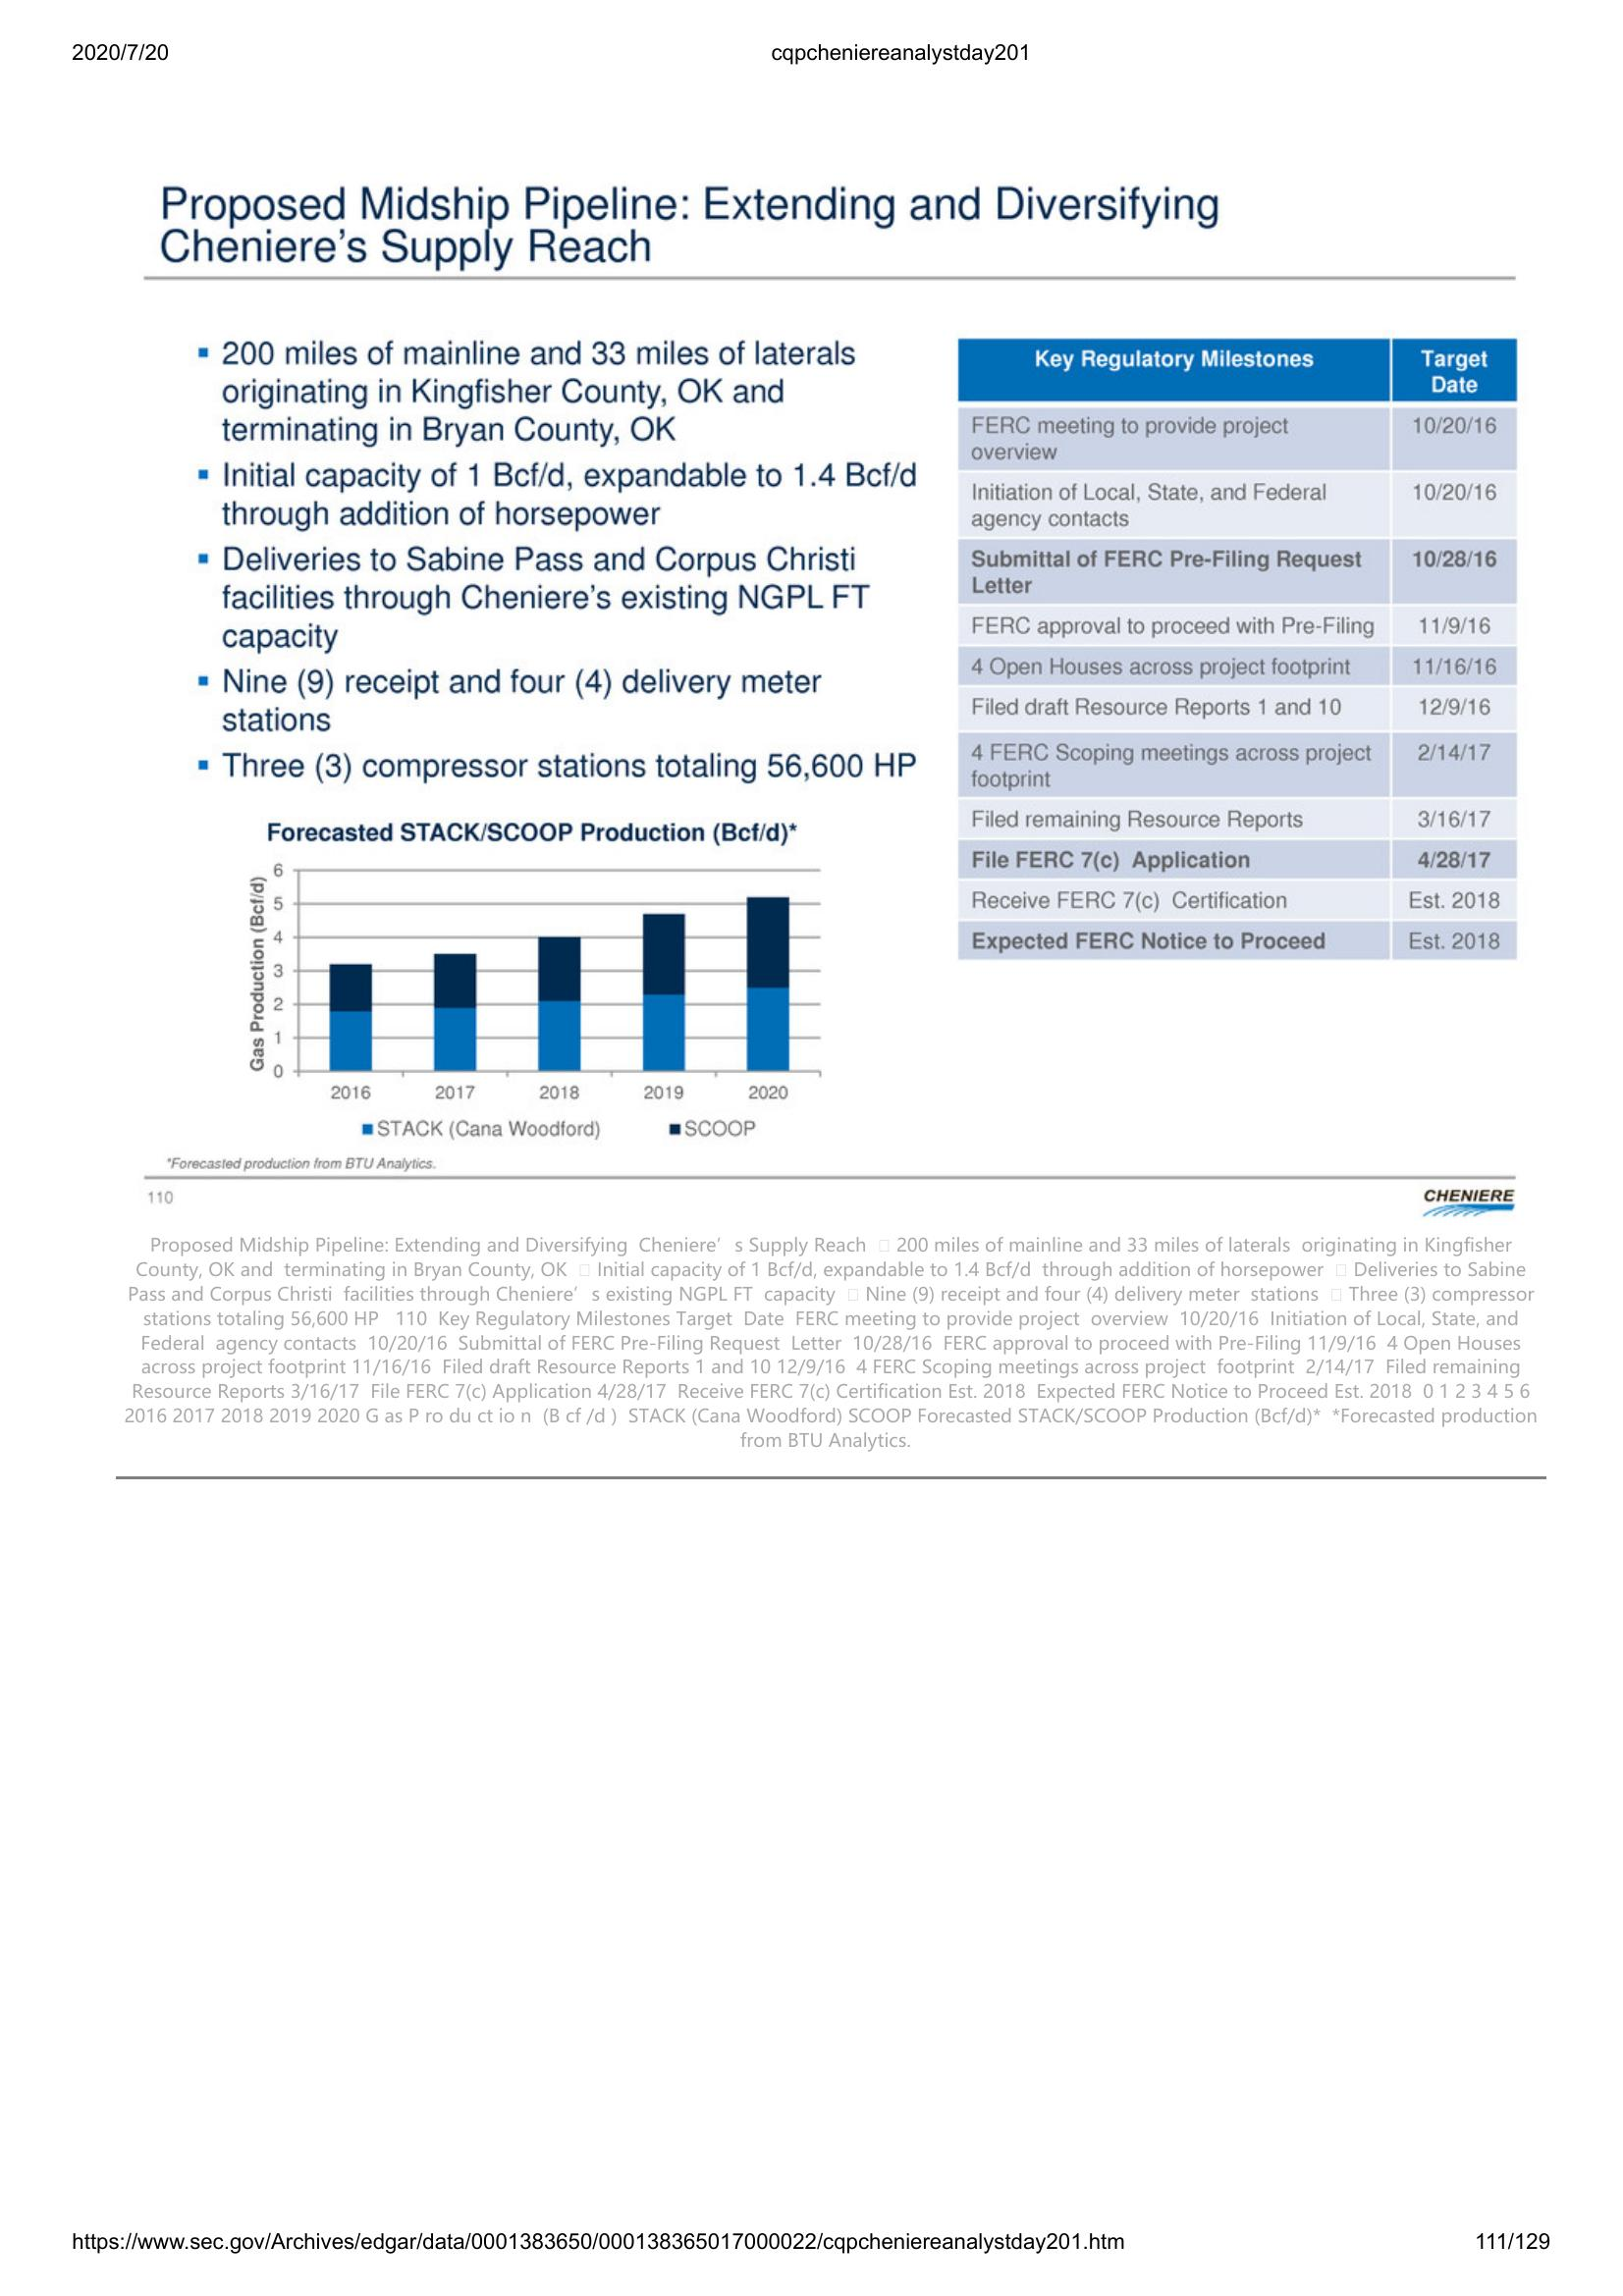table: (959, 334, 1523, 967)
